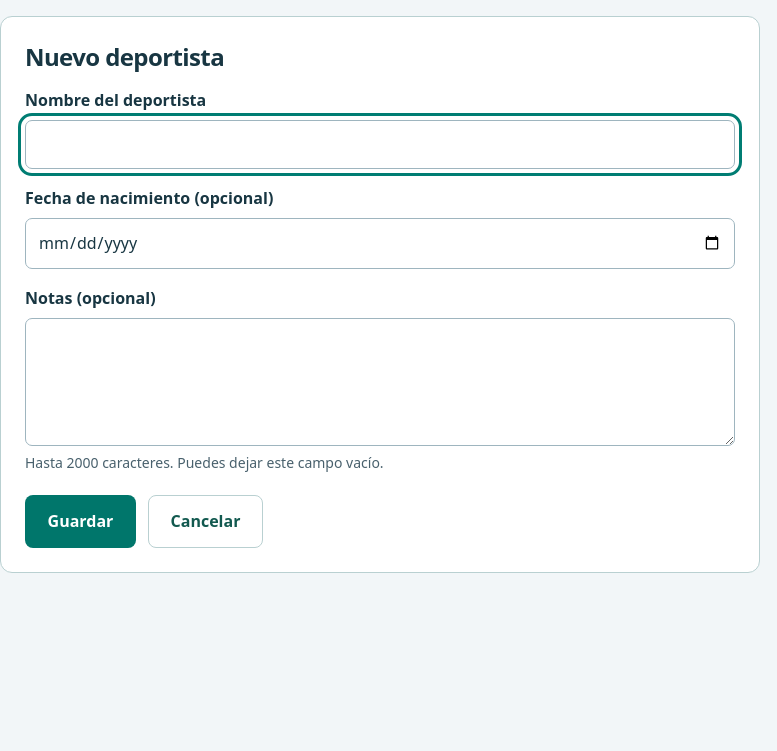
Test case: formulario de deportista › avisa de homónimos, incluidos los archivados, sin impedir crear otra persona
Type "Maria Rios" into the field labelled "Nombre del deportista".
click(380, 144); type("Maria Rios")  # box [25,120,735,169]
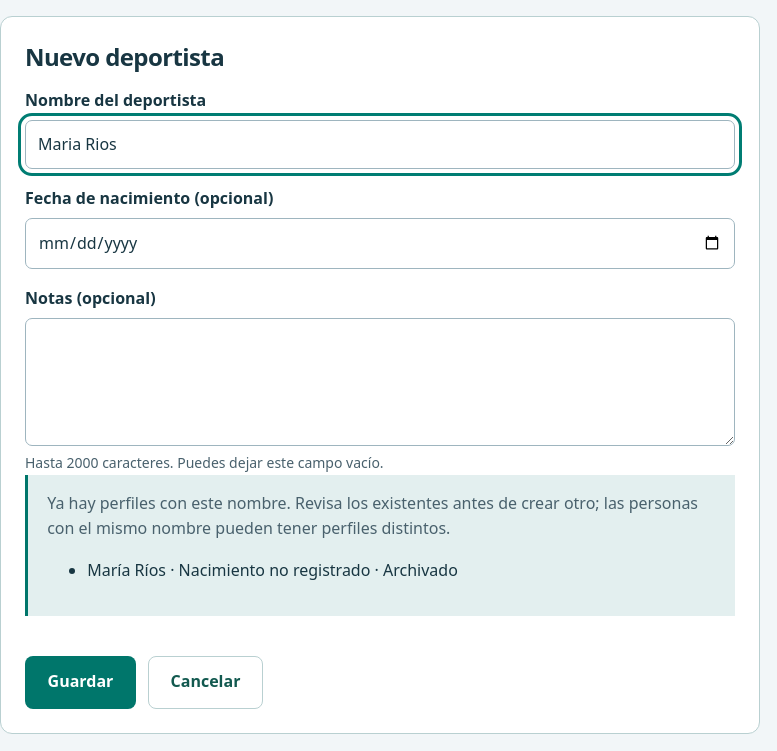
expect the button "Guardar" is enabled: met, box [25,656,136,709]
expect the element named "Perfiles con el mismo nombre" shows "Archivado": met, box [370,559,458,581]
